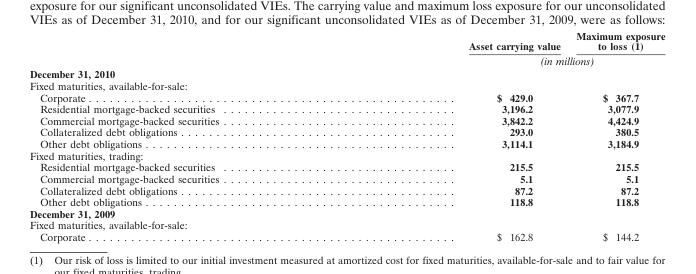table: (28, 28, 664, 242)
table column: (28, 28, 343, 242), (343, 28, 567, 242), (567, 28, 664, 242)
table column header: (28, 28, 664, 67)
table projected row header: (28, 67, 664, 79), (28, 79, 664, 91), (28, 218, 664, 230), (28, 149, 664, 160), (28, 207, 664, 218)
table row: (28, 28, 664, 52), (28, 52, 664, 67), (28, 67, 664, 79), (28, 79, 664, 91), (28, 102, 664, 114), (28, 125, 664, 137), (28, 137, 664, 149), (28, 160, 664, 172), (28, 172, 664, 184), (28, 195, 664, 207), (28, 218, 664, 230), (28, 230, 664, 242), (28, 91, 664, 102), (28, 114, 664, 125), (28, 149, 664, 160), (28, 184, 664, 195), (28, 207, 664, 218)
table spanning cell: (343, 52, 664, 67)
